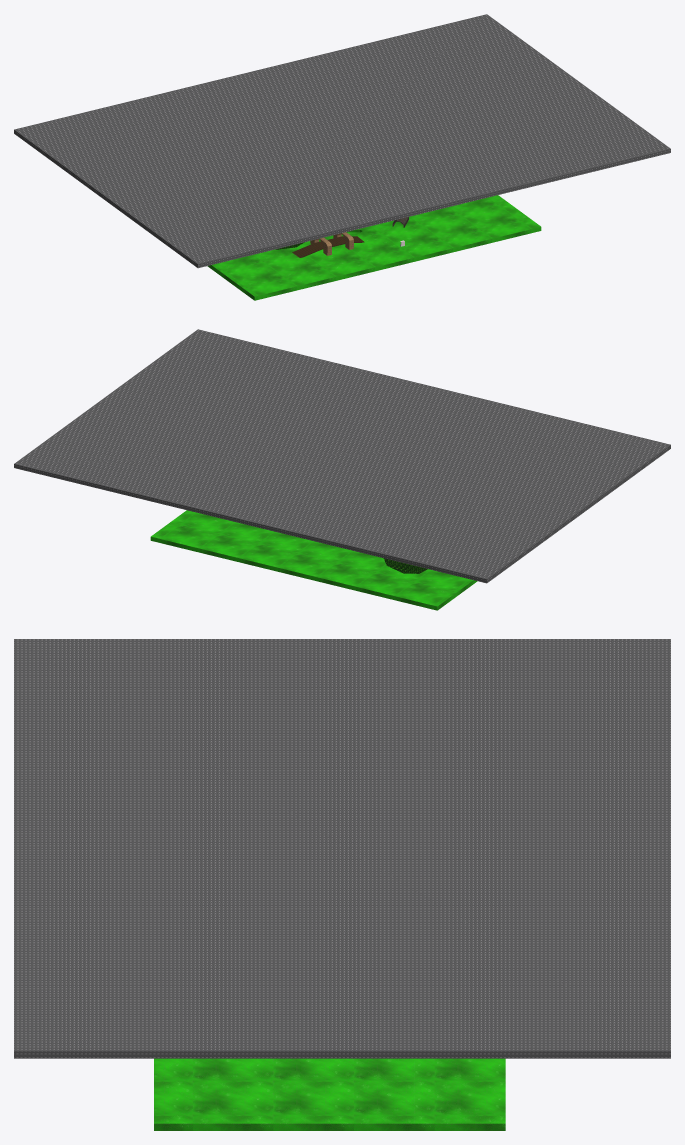
File: Race_brush.glb
3 views of the same model, one above another, from view 1: azimuth 30°, elevation 25°; view 2: azimuth 150°, elevation 25°; view 3: azimuth 270°, elevation 25° (orthographic). The views are drawn at different scales.
Parts seen in each view (by area): view 1: Race; view 2: Race; view 3: Race.
Boxes of the visible parts, x1,y1,x2,y2 form: Race: (14,14,670,300); Race: (14,329,670,610); Race: (14,639,670,1130).
Size of the model in its own units: 30978 by 5826 by 20868.
Materials: 11 (11 with a texture image).
